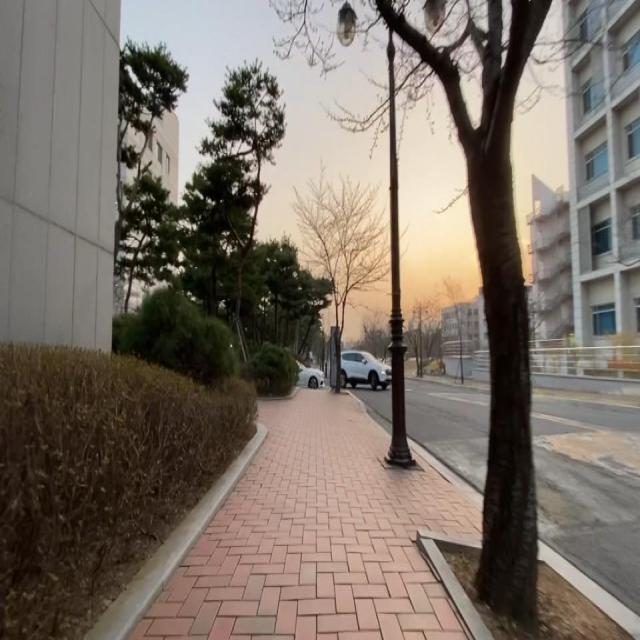sidewalk: (126, 389, 494, 640), (533, 388, 640, 411)
